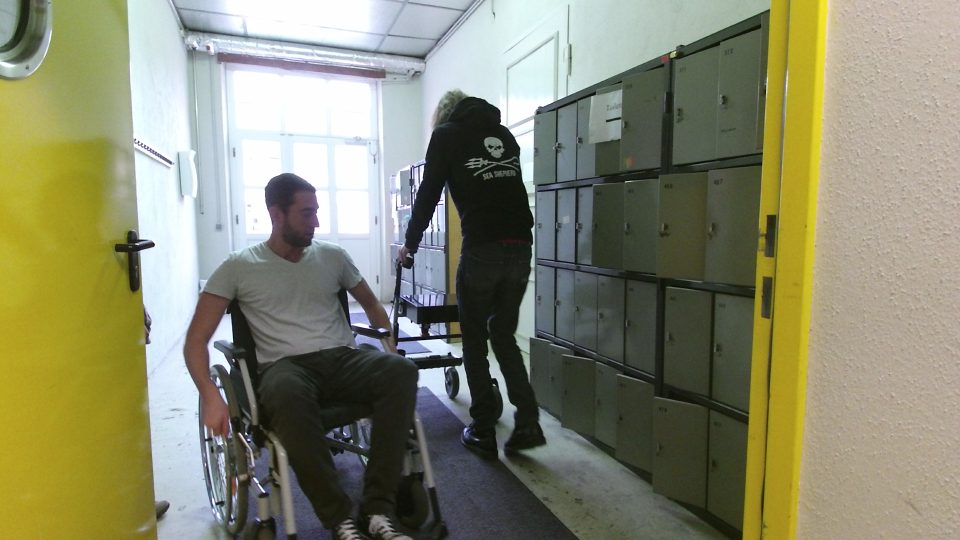wheelchair: (177, 168, 448, 540)
